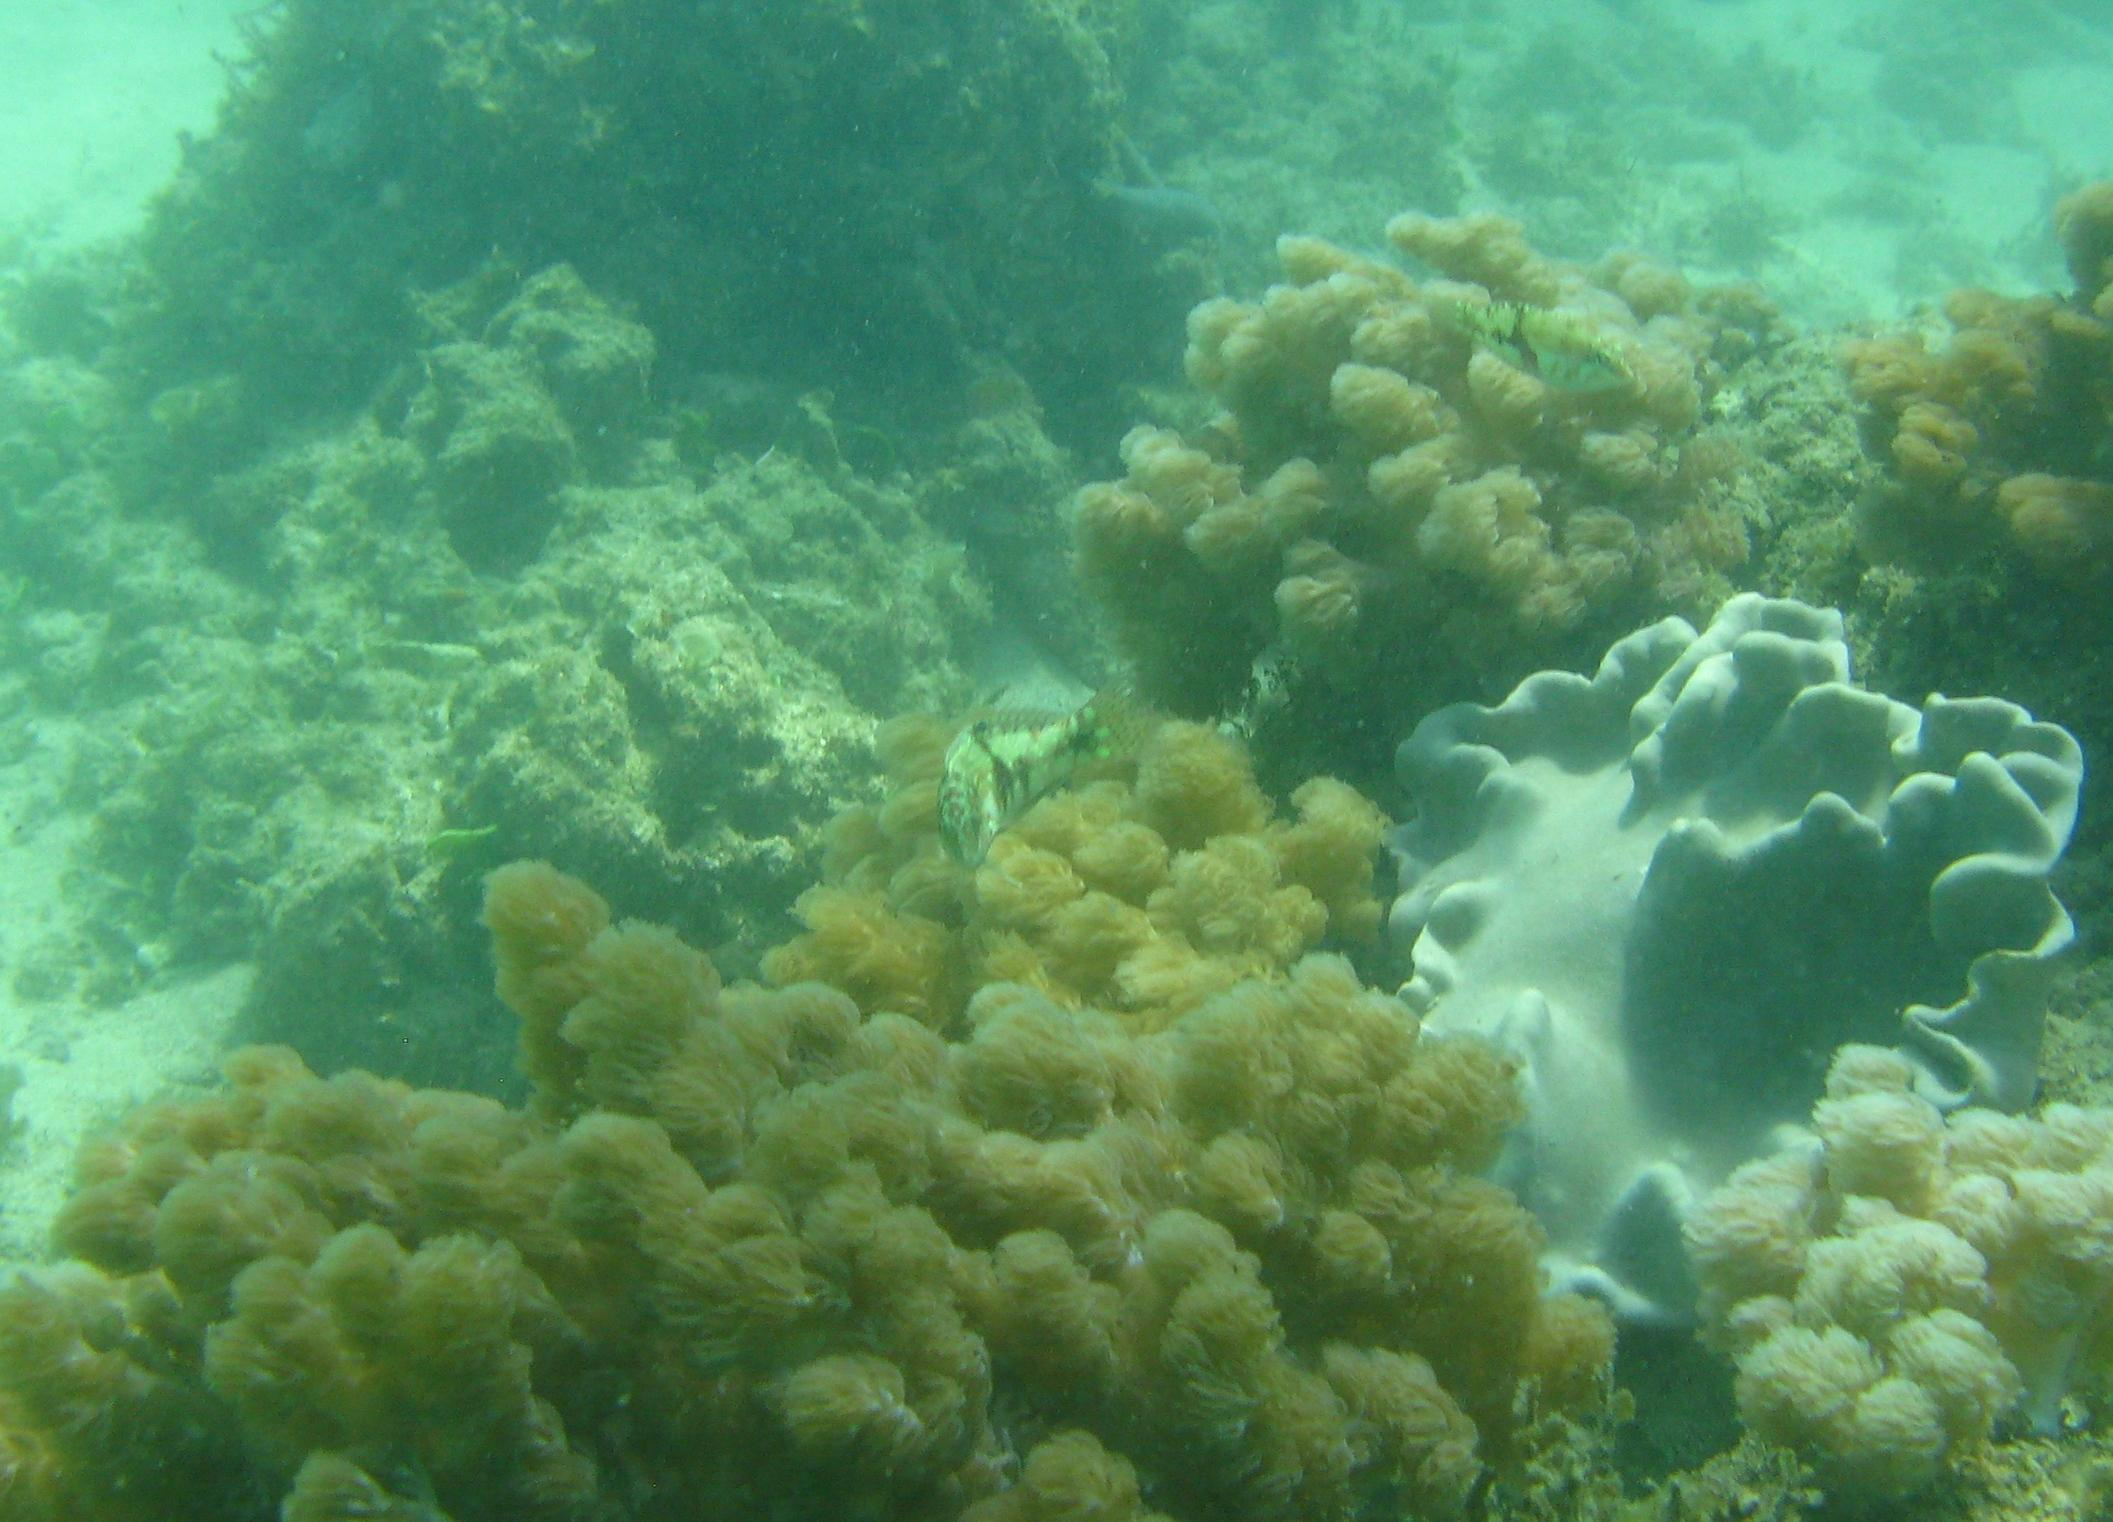Fish: (912, 668, 1147, 882)
